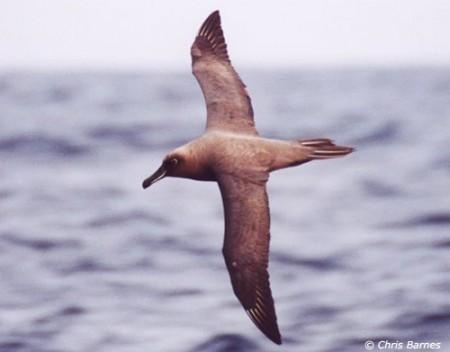bird: (142, 9, 354, 345)
